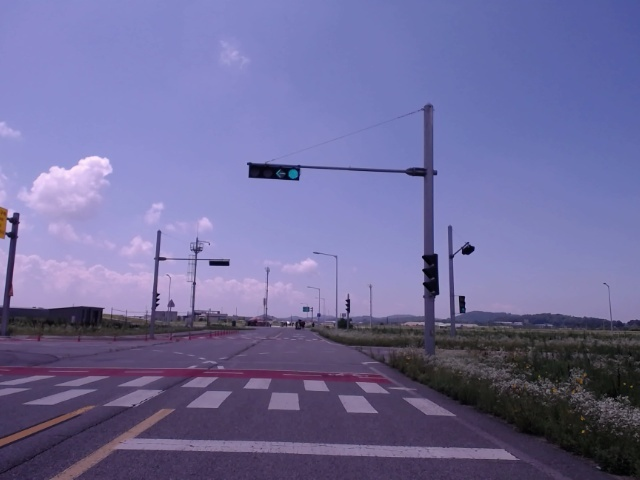all_green_4: (247, 162, 306, 186)
